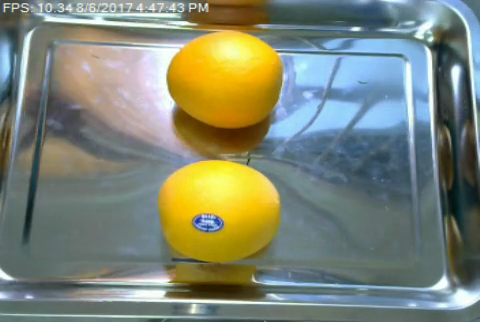Orange: (157, 159, 283, 263), (166, 32, 286, 128)
